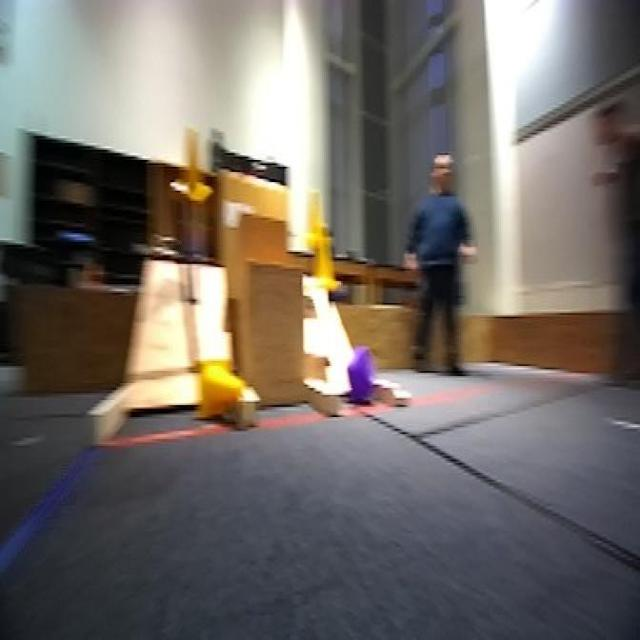frc_cone: (199, 362, 249, 420), (179, 128, 213, 202), (312, 223, 342, 288), (308, 194, 330, 242)
frc_cube: (347, 351, 376, 398)
